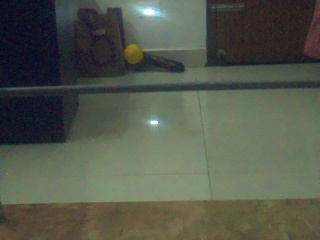ball: (124, 44, 144, 64)
